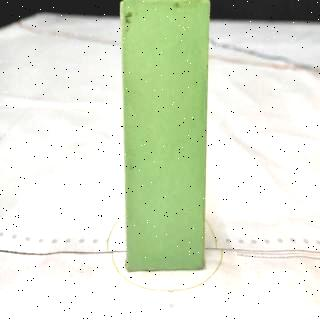greenbox: (116, 0, 215, 280)
